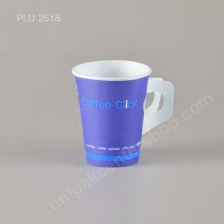paper_cup: (67, 55, 179, 172)
